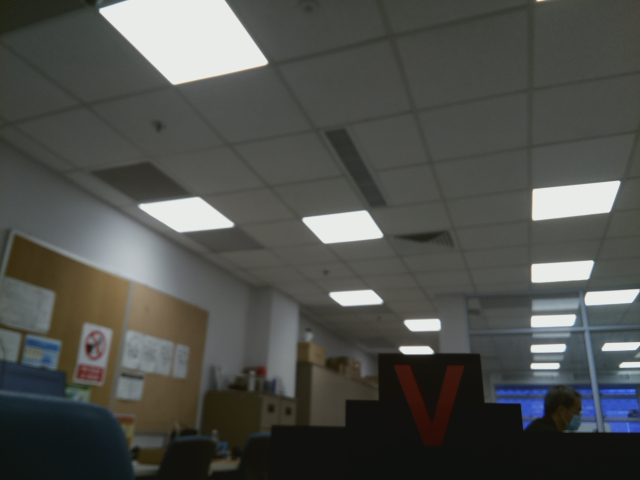v: (389, 364, 475, 444)
